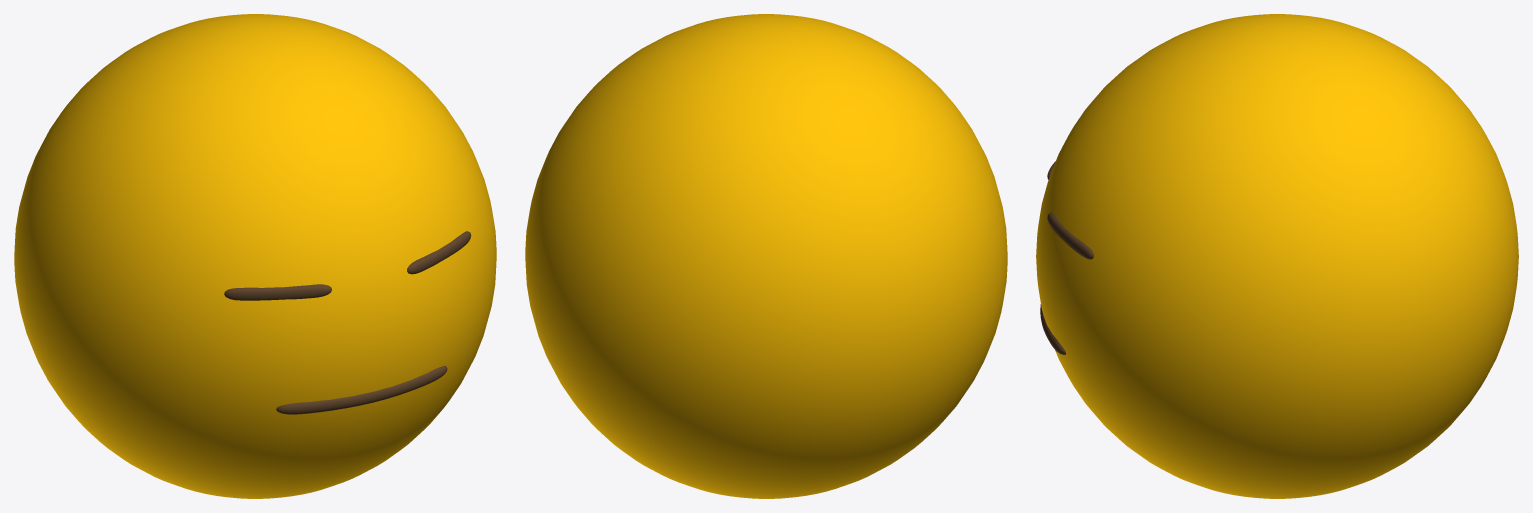
File: Emoticon_40.glb
3 renders of one model, left to right at view 1: azimuth 30°, elevation 25°; view 2: azimuth 150°, elevation 25°; view 3: azimuth 270°, elevation 25°, orthographic.
Visible parts, largest first — view 1: Emoticon 40; view 2: Emoticon 40; view 3: Emoticon 40.
Part boxes in pixels (<box>): Emoticon 40: <box>14,14,496,498</box>; Emoticon 40: <box>525,14,1007,498</box>; Emoticon 40: <box>1036,14,1518,498</box>.
Bounding box in the file's own units: 7.32 × 7.4 × 7.32.
Materials: 1 (1 with a texture image).
